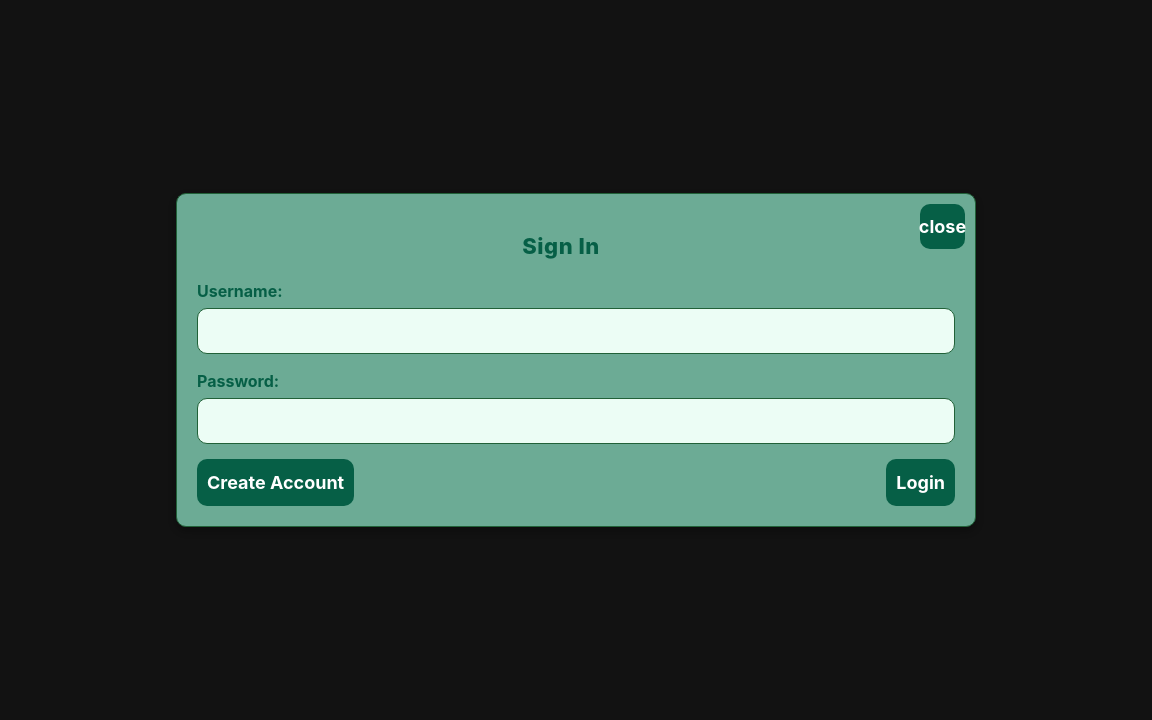
it: SignIn › form submission › should show success message after a successful login
Type "testuser" into the field labelled "Username:".
click(576, 331); type("testuser")  # box [197,308,955,354]
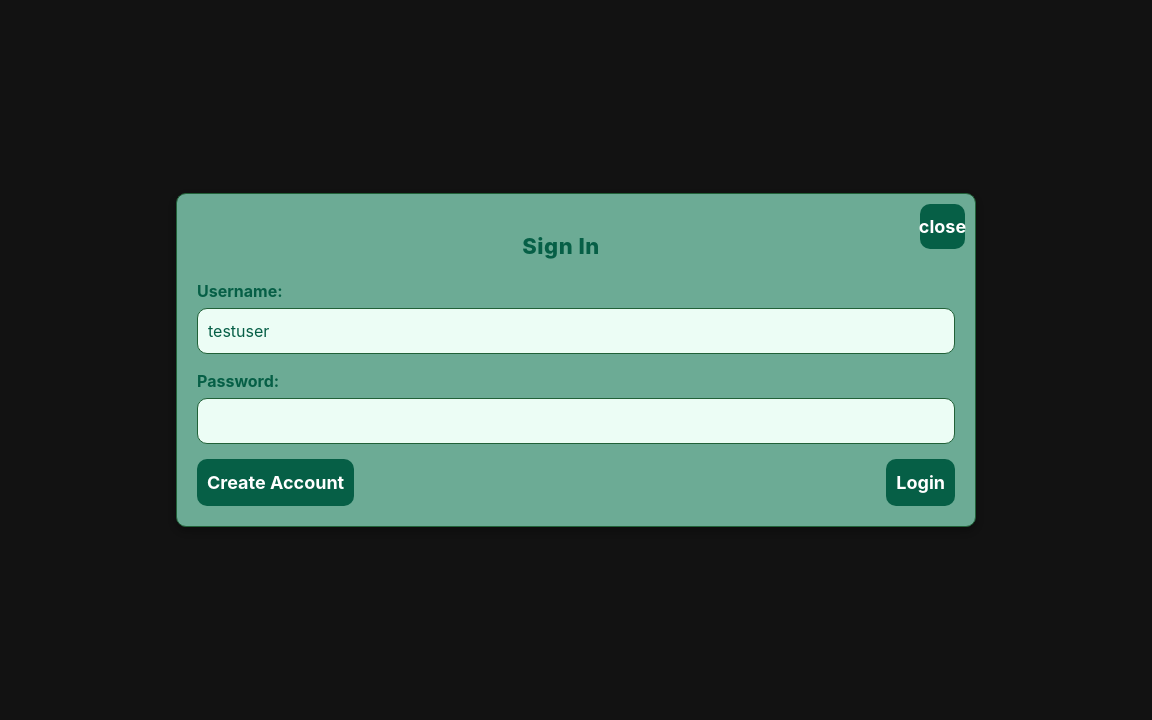
Type "password123" into the password field labelled "Password:".
click(576, 421); type("password123")  # box [197,398,955,444]
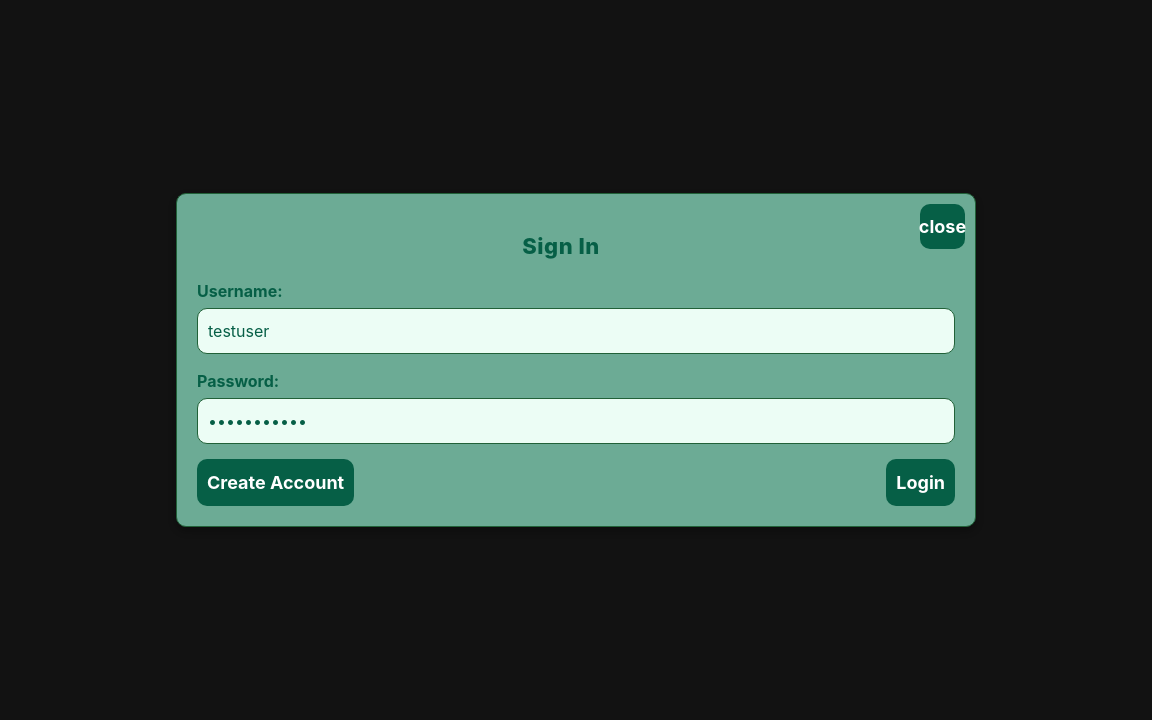
Click the button "Login".
click(921, 482)  # box [886,459,955,506]
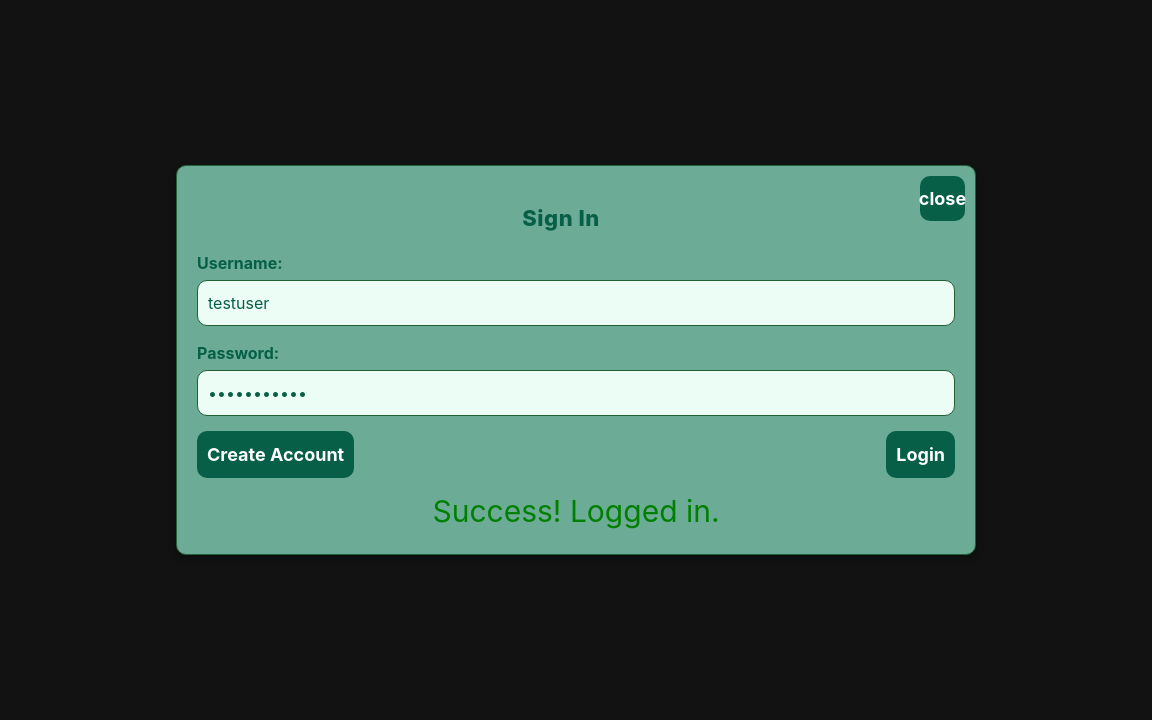
Now the text "Success! Logged in." is shown, box [432,493,720,529]
